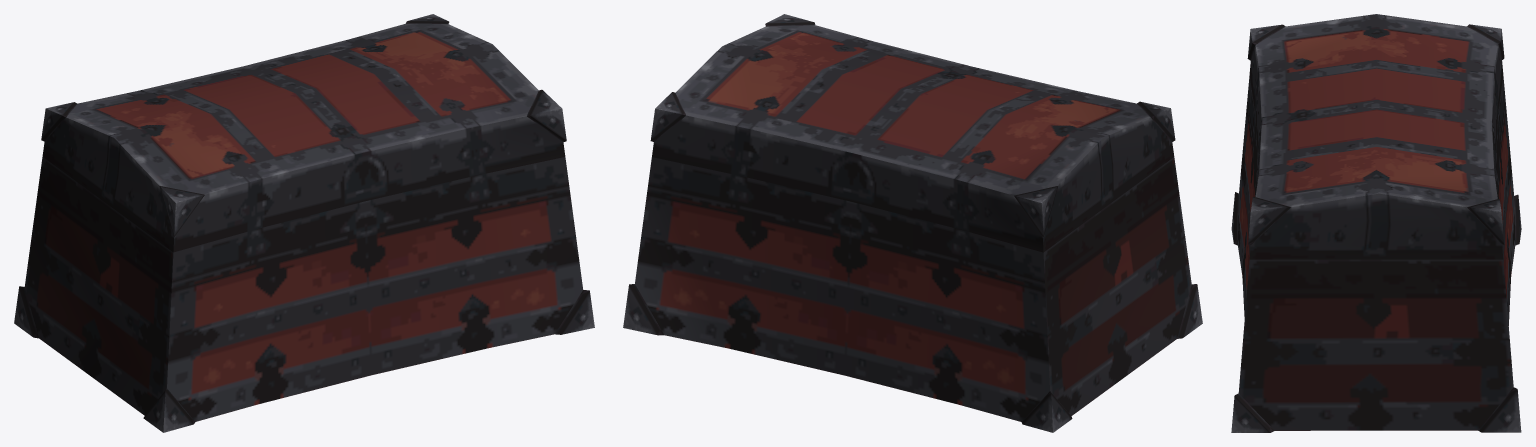
The model's file is chest_stash_01_de1ebdf7.glb.
3 views of the same model, side by side, from view 1: azimuth 30°, elevation 25°; view 2: azimuth 150°, elevation 25°; view 3: azimuth 270°, elevation 25° (orthographic). The views are drawn at different scales.
Bounding box in the file's own units: 1.89 × 0.9797 × 1.14.
1 material, 1 textured.
